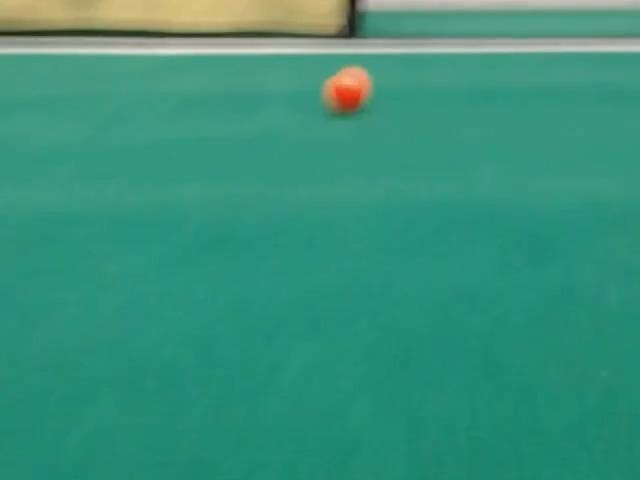Ball: (322, 73, 366, 113), (337, 66, 372, 100)
